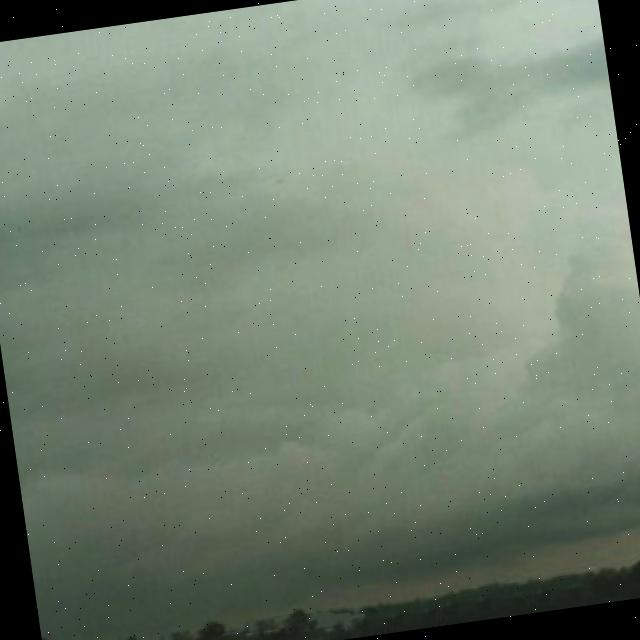Sc: (1, 1, 640, 519)
